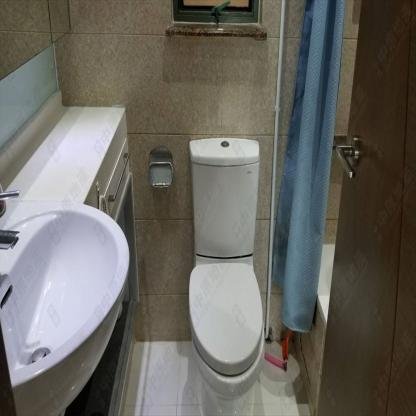Faucet: (0, 178, 32, 257)
Toilet: (188, 135, 267, 415)
Toilet Sink: (0, 204, 128, 411)
